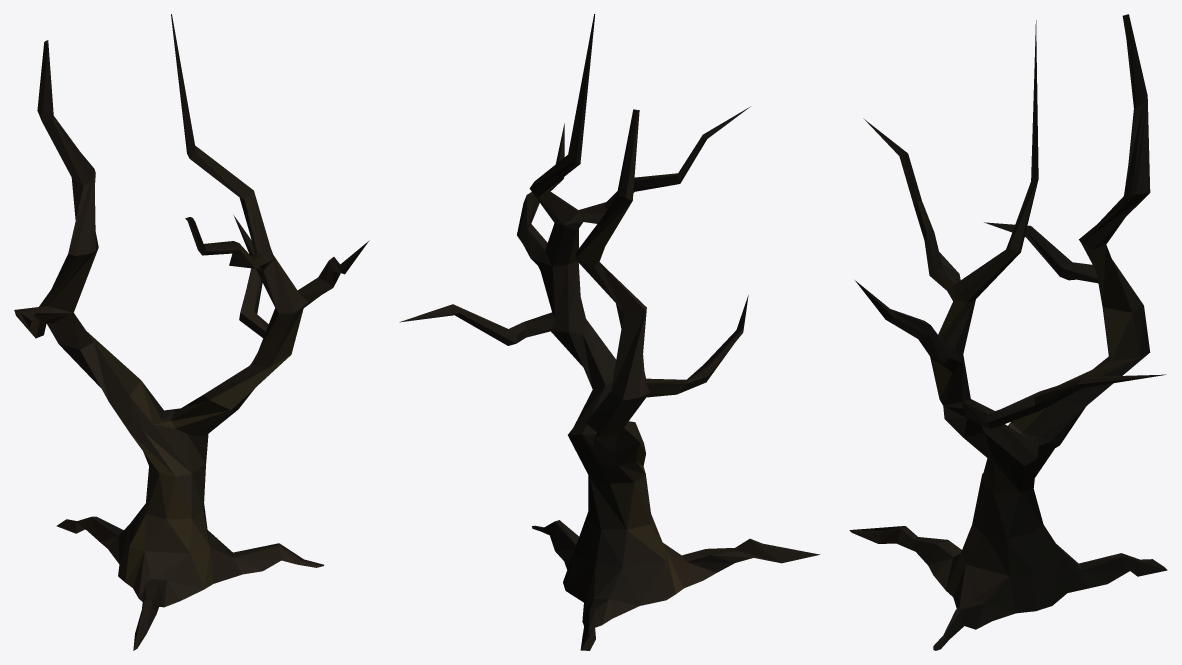
Rendered from Object_Dead_tree_2022-04-28_15-25-25.obj.
3 renders of one model, left to right at view 1: azimuth 30°, elevation 25°; view 2: azimuth 150°, elevation 25°; view 3: azimuth 270°, elevation 25°, orthographic. The views are drawn at different scales.
Visible parts, largest first — view 1: Object_Dead_tree_2022-04-28_15-25-25.obj; view 2: Object_Dead_tree_2022-04-28_15-25-25.obj; view 3: Object_Dead_tree_2022-04-28_15-25-25.obj.
Part boxes in pixels (<box>): Object_Dead_tree_2022-04-28_15-25-25.obj: <box>14,14,369,650</box>; Object_Dead_tree_2022-04-28_15-25-25.obj: <box>399,14,819,650</box>; Object_Dead_tree_2022-04-28_15-25-25.obj: <box>849,14,1167,650</box>.
Bounding box in the file's own units: 258 × 510 × 254.
